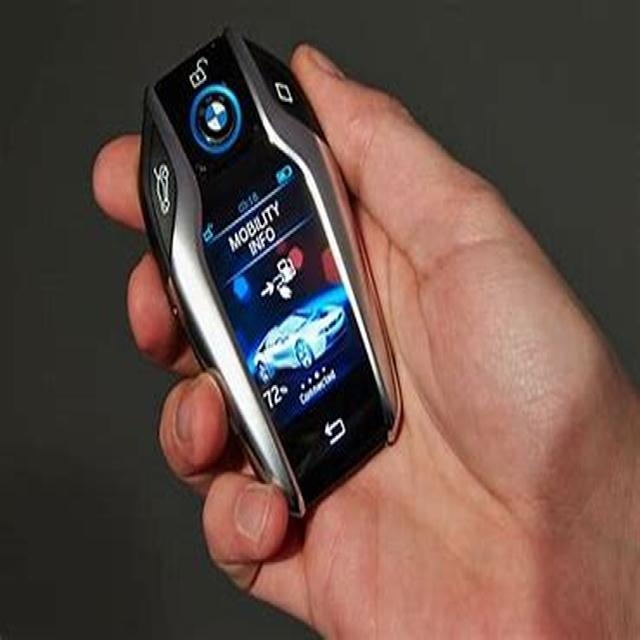key: (139, 56, 401, 492)
